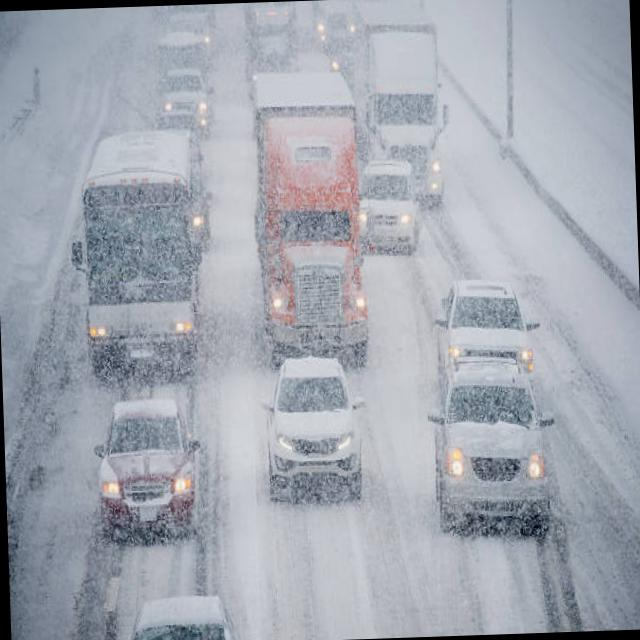Vehicle: (54, 159, 215, 385), (238, 81, 372, 346), (425, 355, 554, 539), (250, 346, 370, 532), (88, 394, 206, 568), (384, 24, 462, 189), (362, 146, 421, 264), (160, 60, 218, 128)
